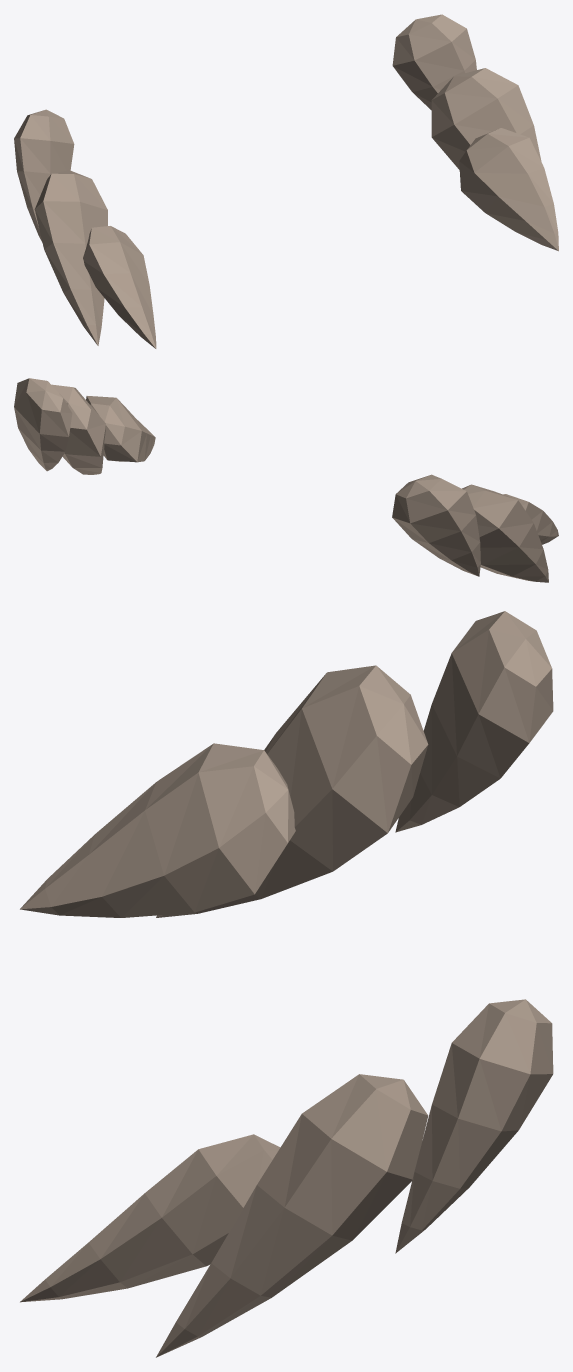
File: fur_cheek_tufts.glb
3 renders of one model, top to bottom at view 1: azimuth 30°, elevation 25°; view 2: azimuth 150°, elevation 25°; view 3: azimuth 270°, elevation 25°, orthographic. The views are drawn at different scales.
Parts seen in each view (by area): view 1: fur_cheek_tufts; view 2: fur_cheek_tufts; view 3: fur_cheek_tufts.
Boxes of the visible parts, x1=… form: fur_cheek_tufts: x1=14, y1=14, x2=558, y2=348; fur_cheek_tufts: x1=14, y1=378, x2=558, y2=582; fur_cheek_tufts: x1=20, y1=611, x2=553, y2=1357.
Bounding box in the file's own units: 0.6156 × 0.1986 × 0.2948.
